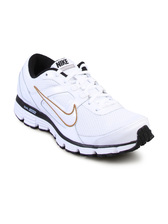shoes: (10, 52, 156, 160)
